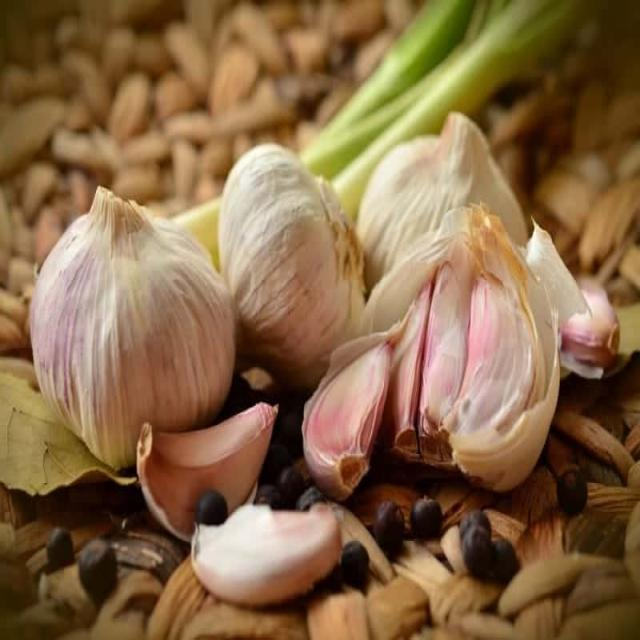Garlic: (0, 175, 245, 474), (302, 88, 556, 338), (209, 112, 388, 374), (103, 378, 291, 536), (179, 482, 374, 624), (284, 312, 396, 538), (438, 245, 548, 455)
